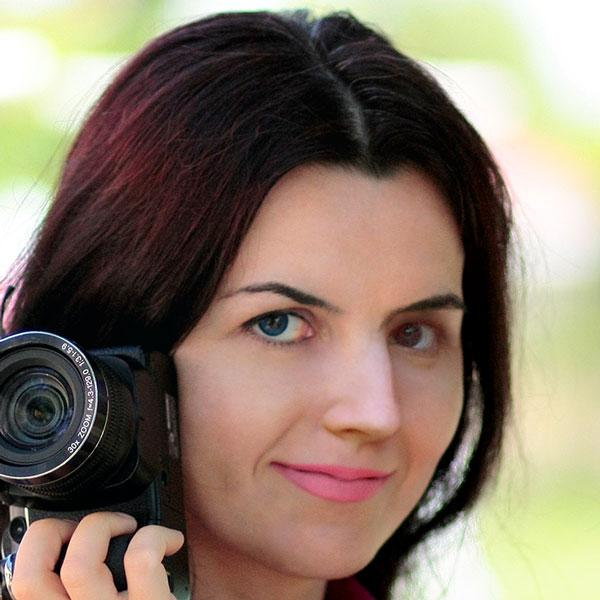Eyes: (232, 293, 326, 358), (379, 306, 450, 361)
